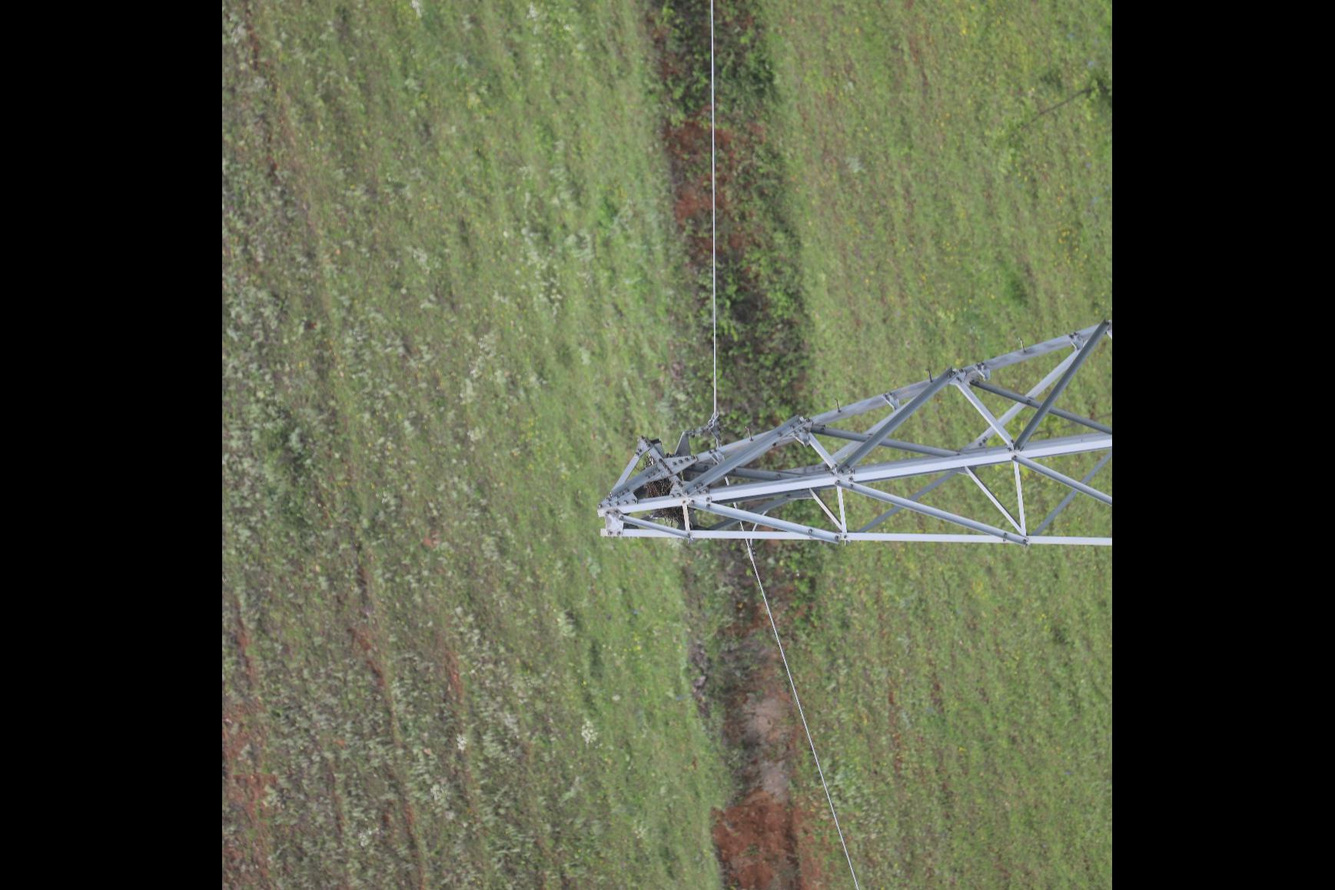nest: (644, 477, 683, 524)
